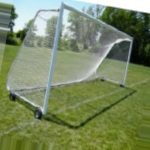goals: (7, 1, 134, 121)
